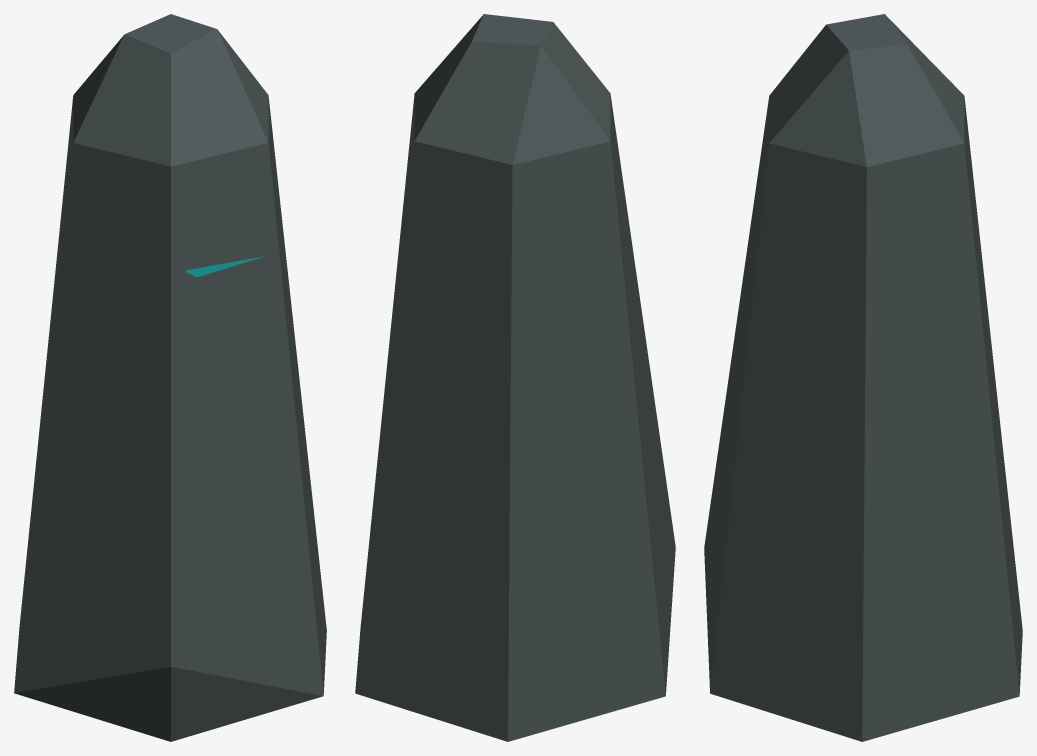
The model's file is Marco_antigo_LOD1.fbx.
The picture shows the model from 3 angles, left to right: view 1: azimuth 30°, elevation 25°; view 2: azimuth 150°, elevation 25°; view 3: azimuth 270°, elevation 25°; orthographic projection.
Visible parts, largest first — view 1: Marco_antigo_LOD1; view 2: Marco_antigo_LOD1; view 3: Marco_antigo_LOD1.
Boxes of the visible parts, bbox=[...] form: Marco_antigo_LOD1: bbox=[14, 14, 326, 741]; Marco_antigo_LOD1: bbox=[355, 14, 675, 741]; Marco_antigo_LOD1: bbox=[704, 14, 1022, 741].
Bounding box in the file's own units: 75.84 × 151 × 67.85.
Materials: 1 (1 with a texture image).
